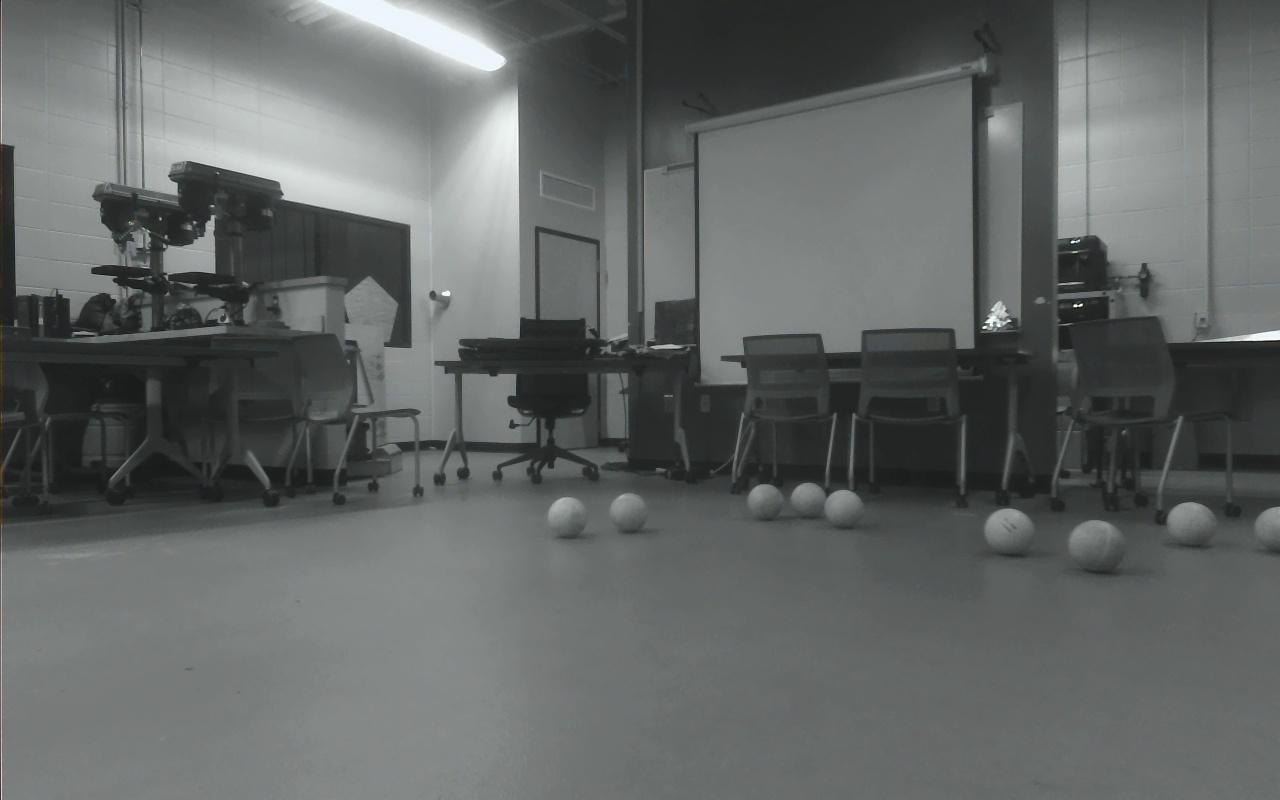Fuel: (1068, 519, 1126, 574), (984, 508, 1034, 555), (1167, 501, 1217, 546), (548, 497, 589, 538), (823, 490, 865, 528), (609, 493, 648, 533), (748, 482, 785, 520), (790, 482, 827, 518), (1254, 506, 1280, 552)
